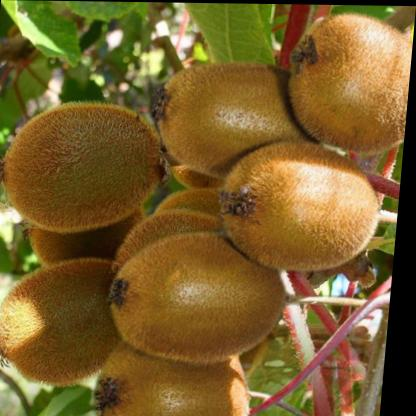kiwi: (100, 233, 319, 362), (141, 52, 333, 186), (0, 97, 170, 237), (208, 144, 397, 268), (0, 254, 156, 388), (274, 13, 415, 156), (96, 341, 278, 416)
